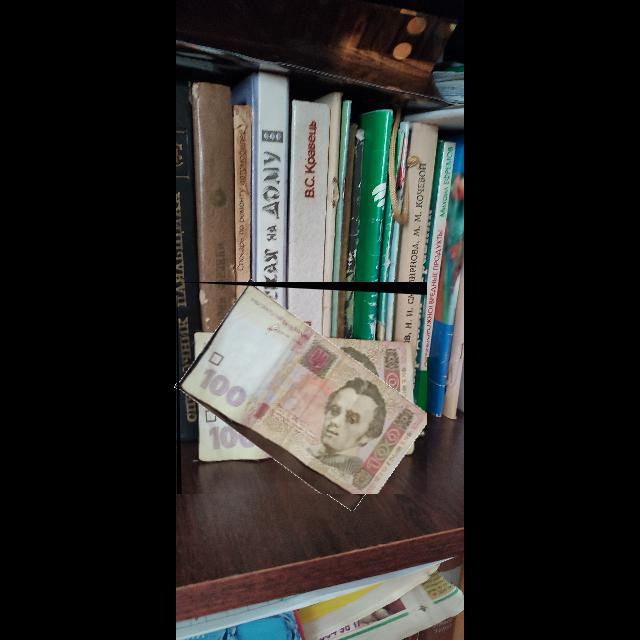100uah: (179, 285, 428, 495)
